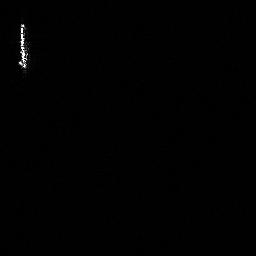ship: (14, 21, 32, 70)
